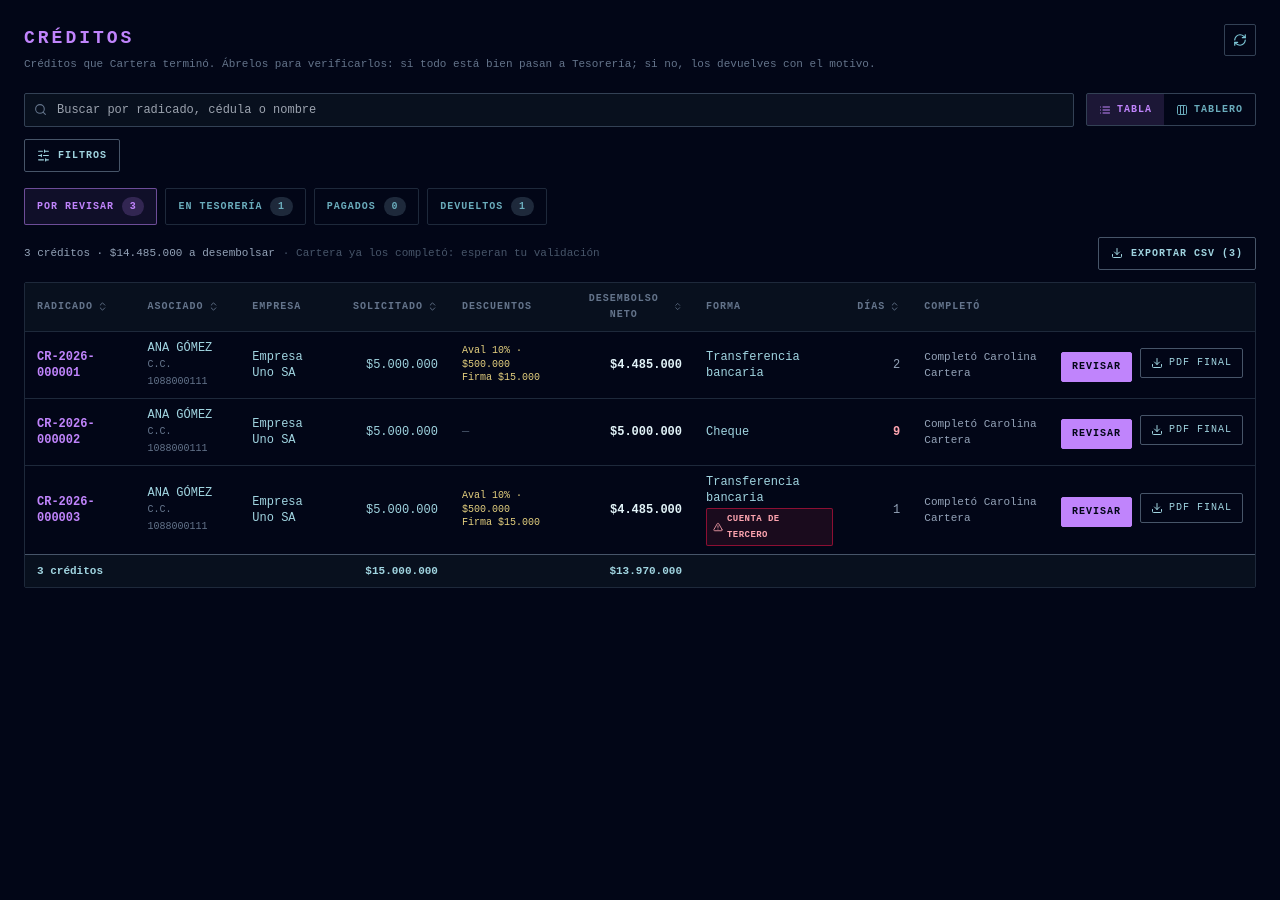
Test: Control Interno — bandeja: tablero › muestra una columna por momento del crédito, con su total y desembolso, y oculta las pestañas
Expected: the link "CR-2026-000001" is shown, [37, 350, 95, 380]
Click the button "TABLERO" at (1210, 110), box [1164, 94, 1255, 125]
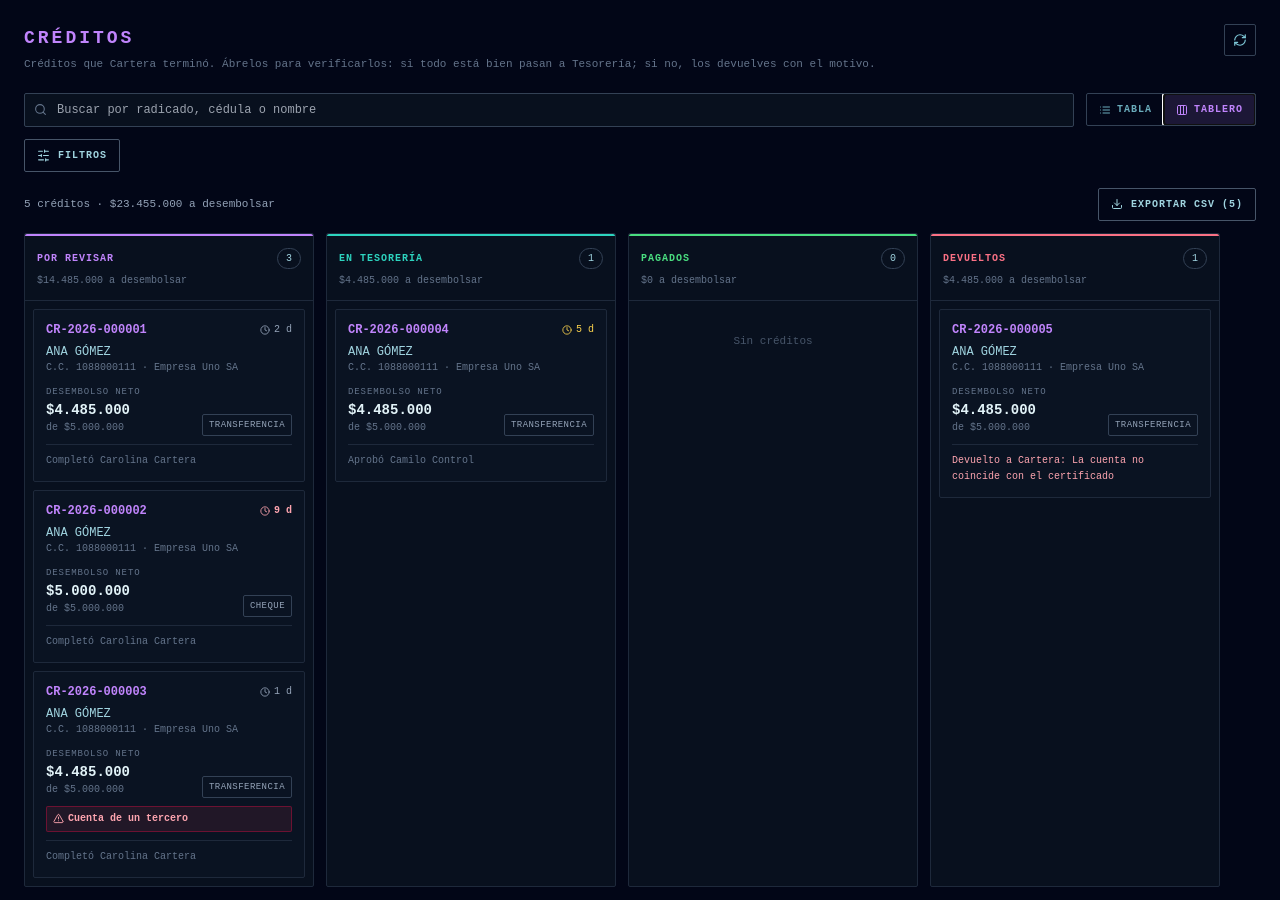
Result: the headings read "POR REVISAR", "EN TESORERÍA", "PAGADOS", "DEVUELTOS", in this order at [37, 250, 114, 266]; [339, 250, 423, 266]; [641, 250, 690, 266]; [943, 250, 1006, 266]
Result: the navigation bar "Estados" is gone
Result: the element named "Columna POR REVISAR" shows "$14.485.000 a desembolsar" at [24, 232, 314, 886]
